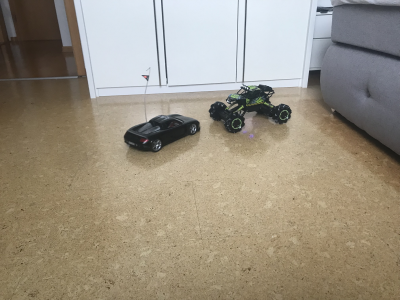remote control car: (205, 80, 294, 134)
